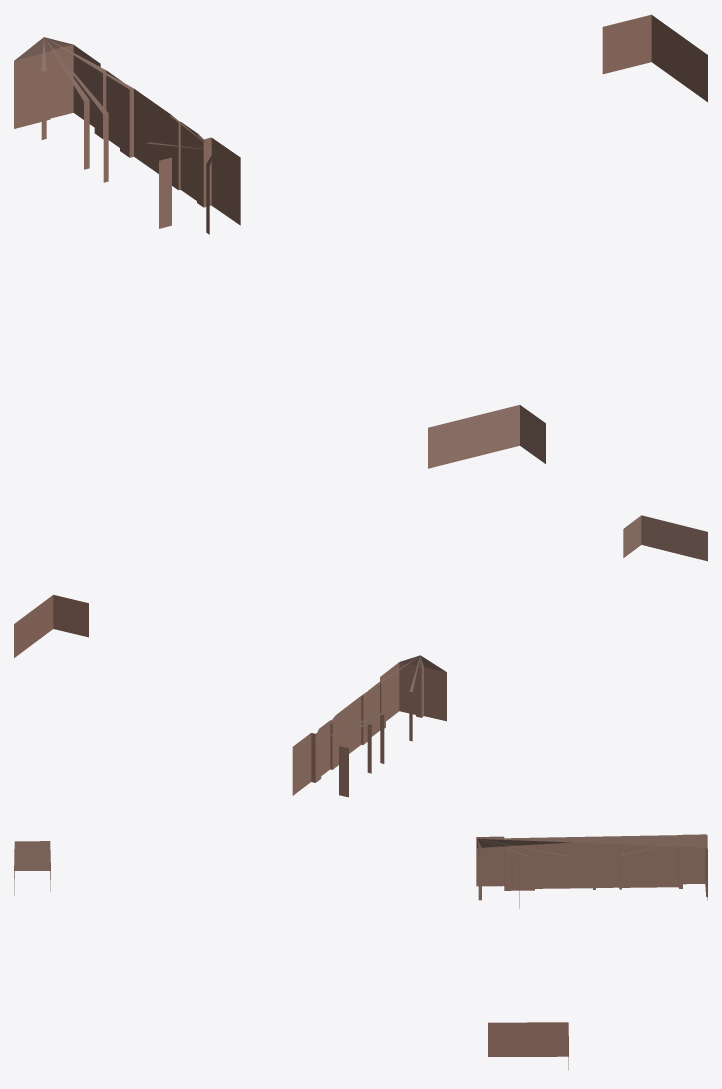
The model's file is c_1631_17837_buildings_residential.glb.
3 views of the same model, one above another, from view 1: azimuth 30°, elevation 25°; view 2: azimuth 150°, elevation 25°; view 3: azimuth 270°, elevation 25° (orthographic). The views are drawn at different scales.
Parts seen in each view (by area): view 1: geometry_0; view 2: geometry_0; view 3: geometry_0.
Boxes of the visible parts, x1,y1,x2,y2 form: geometry_0: (14, 14, 707, 468); geometry_0: (14, 515, 707, 797); geometry_0: (14, 834, 707, 1070).
Size of the model in its own units: 141 by 19.36 by 201.
